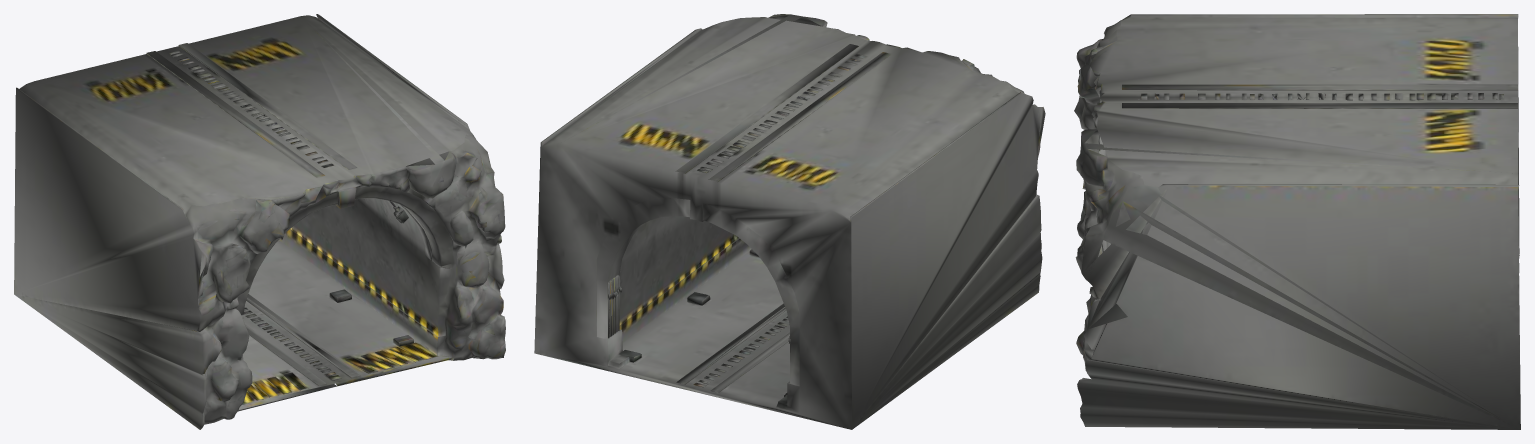
Rendered from p_tunnel.glb.
The picture shows the model from 3 angles, left to right: view 1: azimuth 30°, elevation 25°; view 2: azimuth 150°, elevation 25°; view 3: azimuth 270°, elevation 25°; orthographic projection. The views are drawn at different scales.
Size of the model in its own units: 0.897 by 0.5857 by 0.9644.
1 material, 1 textured.
